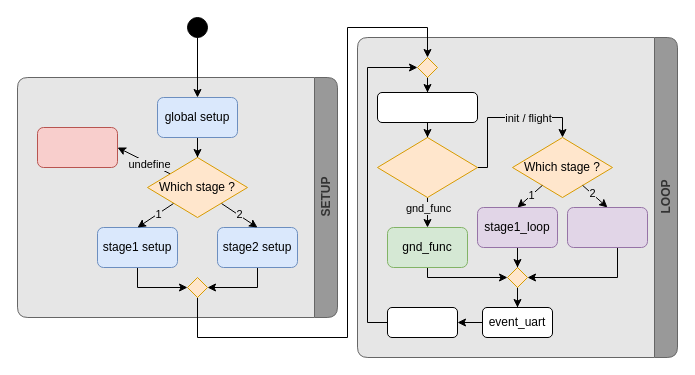
Image size: 695x375. Some labels were removed from this diagram. Each missing label, with the centre of its shape:
"ERROR STOP" goes at (77,147).
"gpio_input_state" goes at (427,107).
"led_rgb" goes at (422,322).
"stage2_loop" goes at (607,227).
"Which STATE ?" goes at (427,167).
